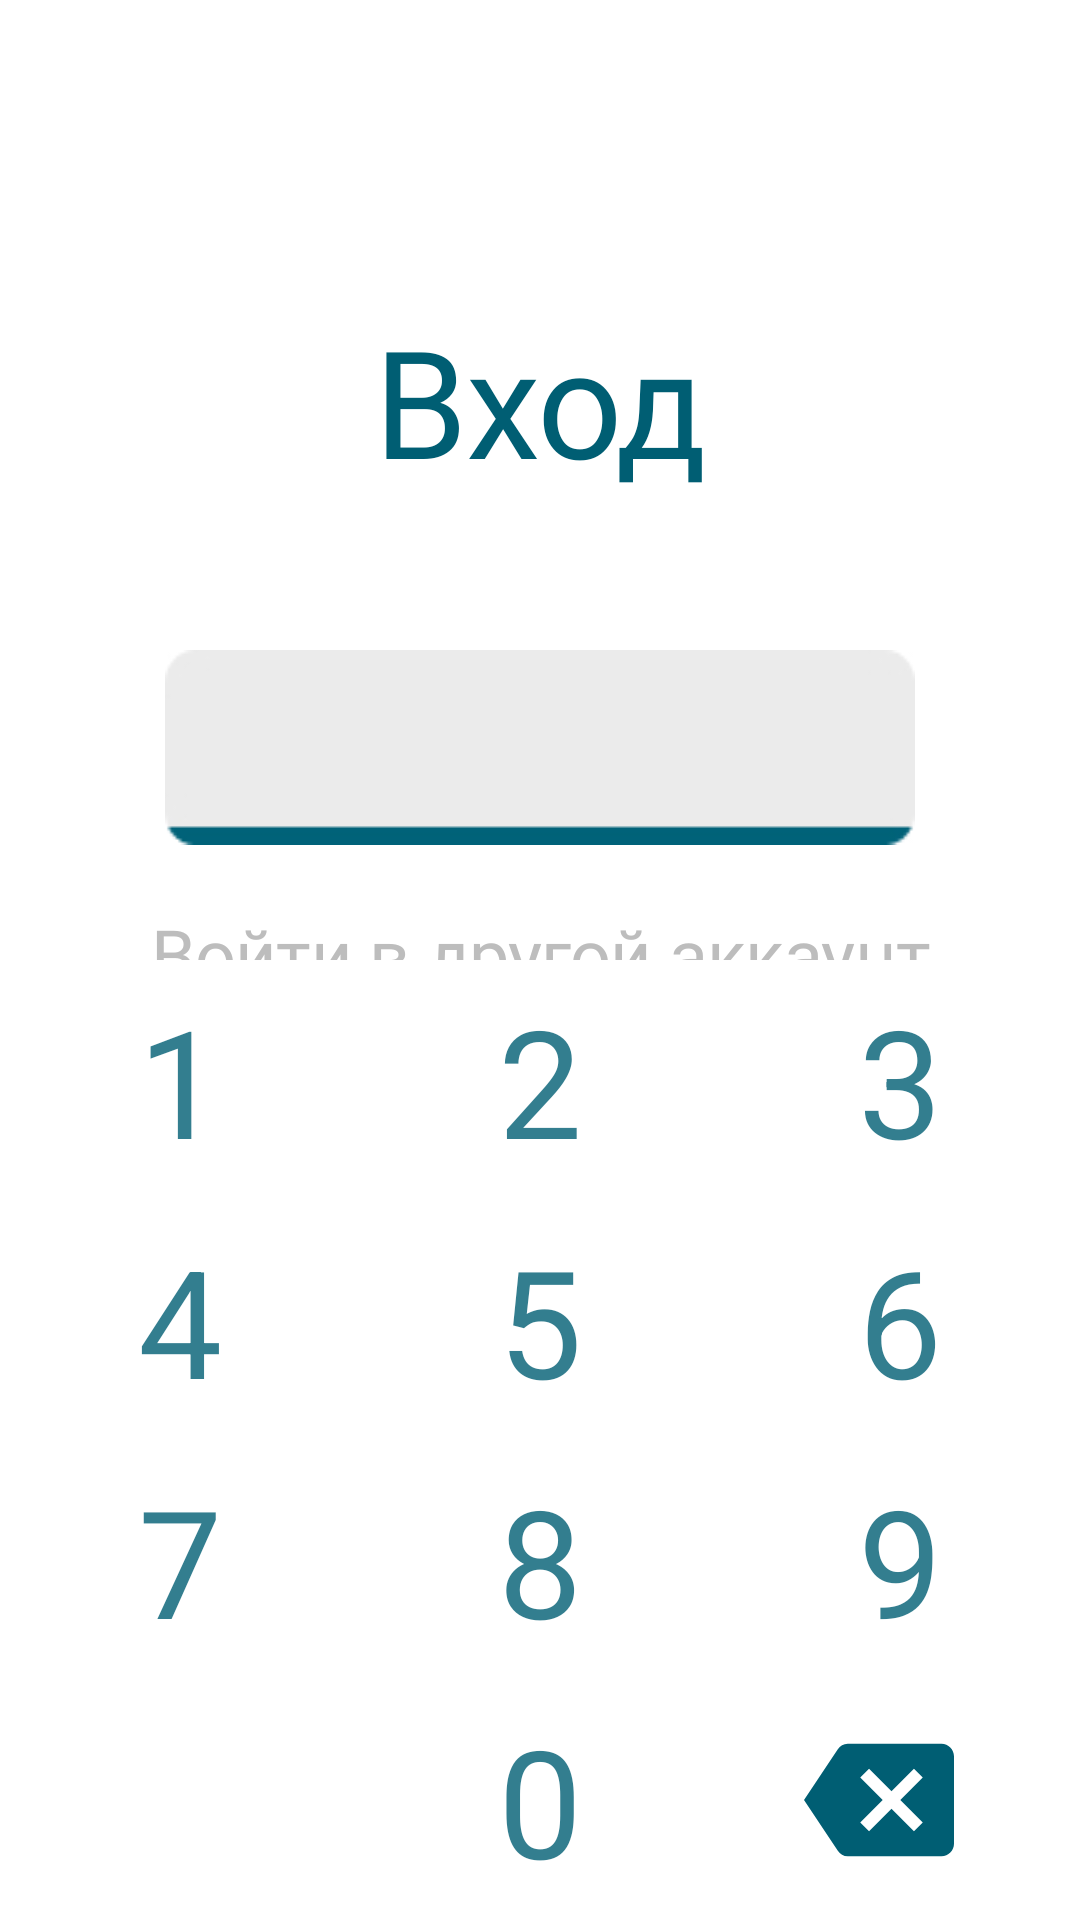

Point at icon controls on the screen. Image size 1080x1920, points as (x,y).
del: (879,1800)
